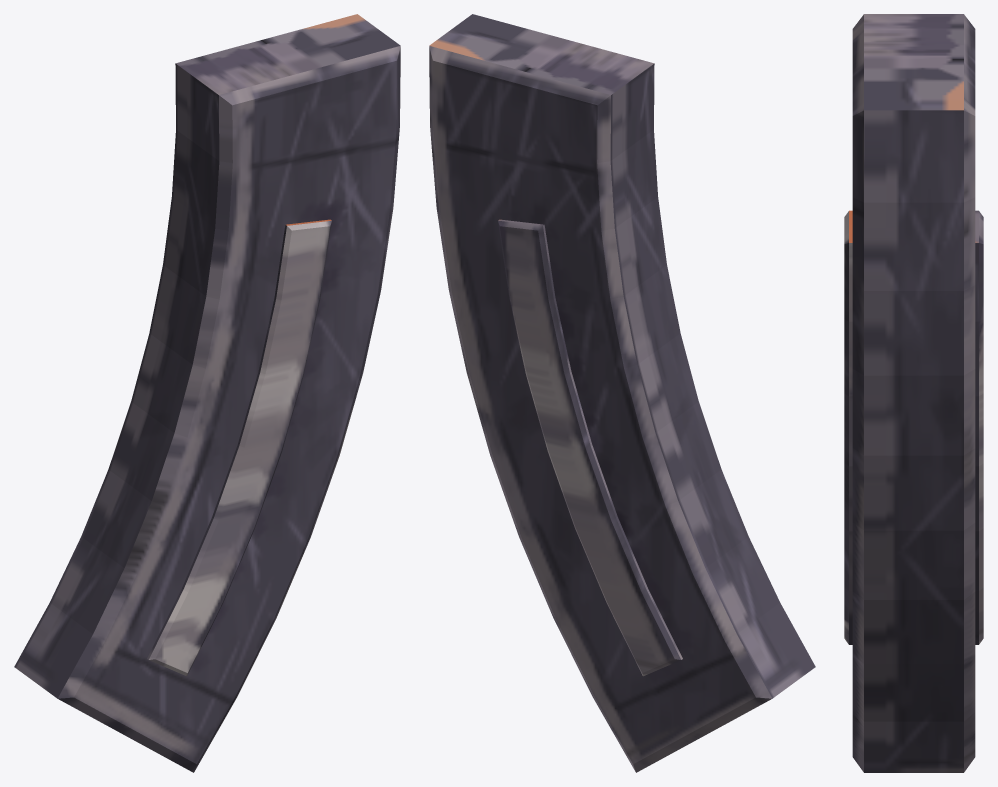
File: rifle_magazine.fbx
3 renders of one model, left to right at view 1: azimuth 30°, elevation 25°; view 2: azimuth 150°, elevation 25°; view 3: azimuth 270°, elevation 25°, orthographic. The views are drawn at different scales.
Parts seen in each view (by area): view 1: rifle_magazine; view 2: rifle_magazine; view 3: rifle_magazine.
Boxes of the visible parts, <box> form: rifle_magazine: <box>14,14,400,772</box>; rifle_magazine: <box>429,14,815,772</box>; rifle_magazine: <box>844,14,983,772</box>.
Size of the model in its own units: 0.4526 by 0.8525 by 0.138.
